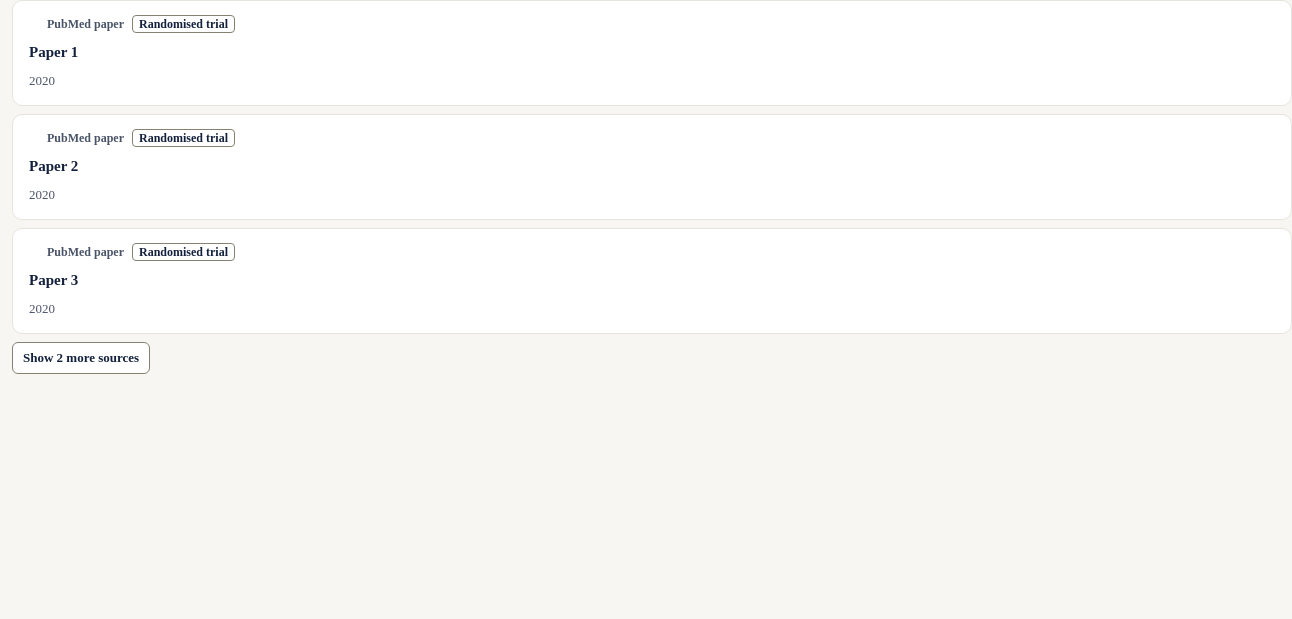
Scenario: SourceList (T59) › shows the first 3 in the order given, the rest behind 'Show N more sources'
Expected: the headings read "Paper 1", "Paper 2", "Paper 3", in this order, x1=29 y1=44 x2=78 y2=60; x1=29 y1=158 x2=78 y2=174; x1=29 y1=272 x2=78 y2=288
Click the button "Show 2 more sources": [81, 358] box x1=12 y1=342 x2=150 y2=374
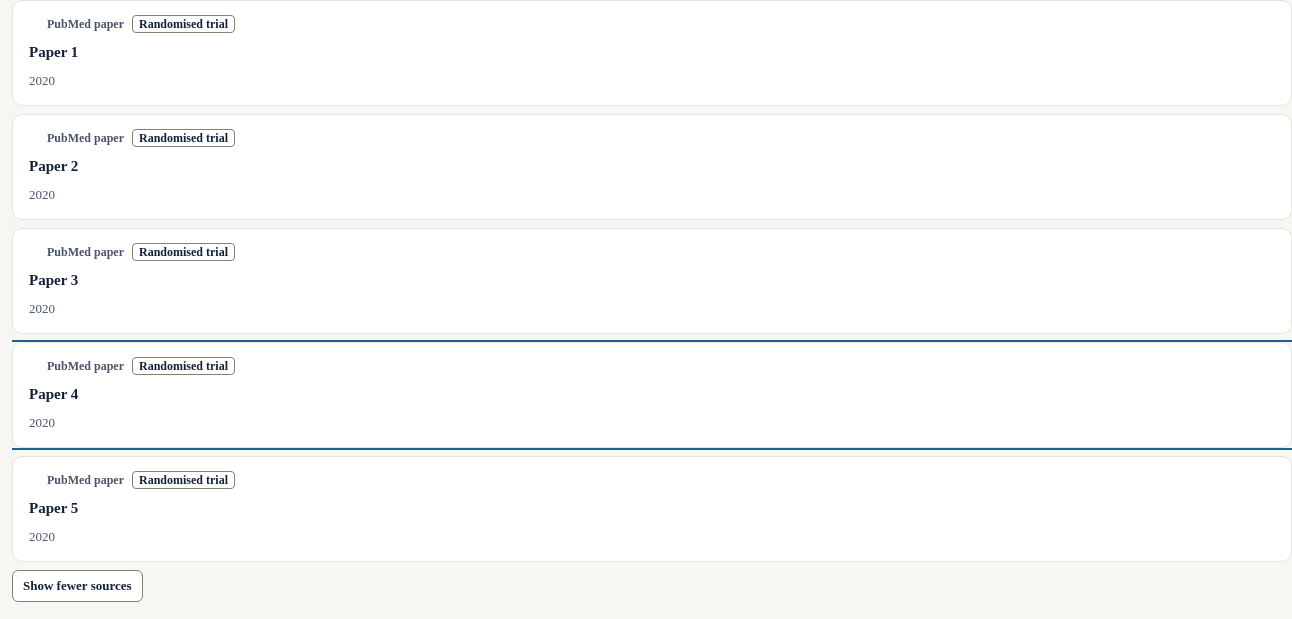
Expected: the headings read "Paper 1", "Paper 2", "Paper 3", "Paper 4", "Paper 5", in this order, x1=29 y1=44 x2=78 y2=60; x1=29 y1=158 x2=78 y2=174; x1=29 y1=272 x2=78 y2=288; x1=29 y1=386 x2=78 y2=402; x1=29 y1=500 x2=78 y2=516
Expected: the button "Show fewer sources" is expanded, x1=12 y1=570 x2=143 y2=602
